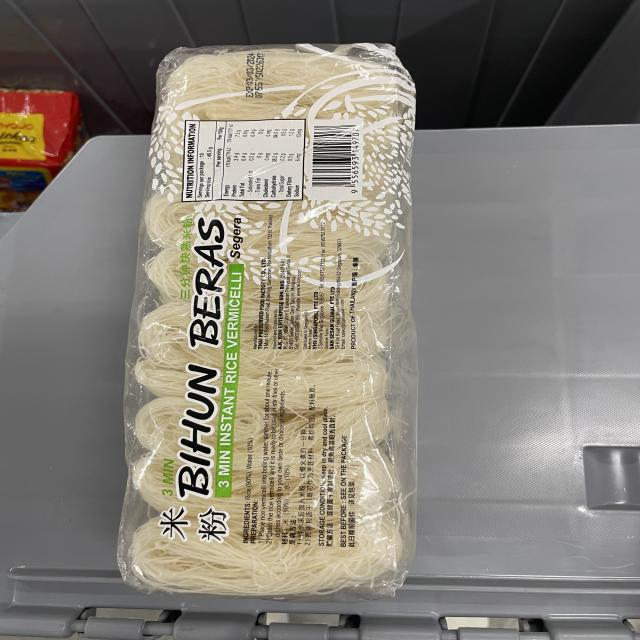object_name: (148, 54, 414, 585)
